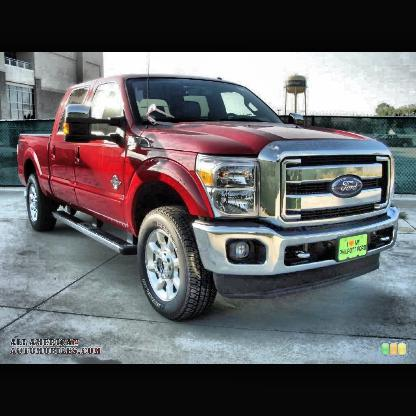Ford F-450 Super Duty Crew Cab 2012: (15, 77, 399, 320)
